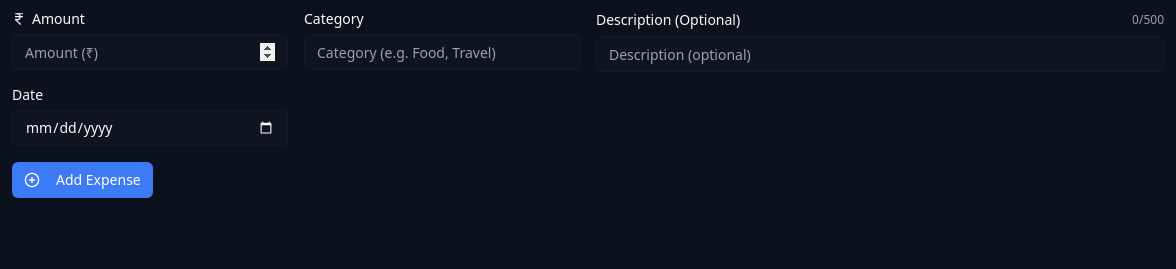
ExpenseForm › shows validation errors for empty required fields
Click the button "Add Expense" at (82, 180), box [12,162,153,198]
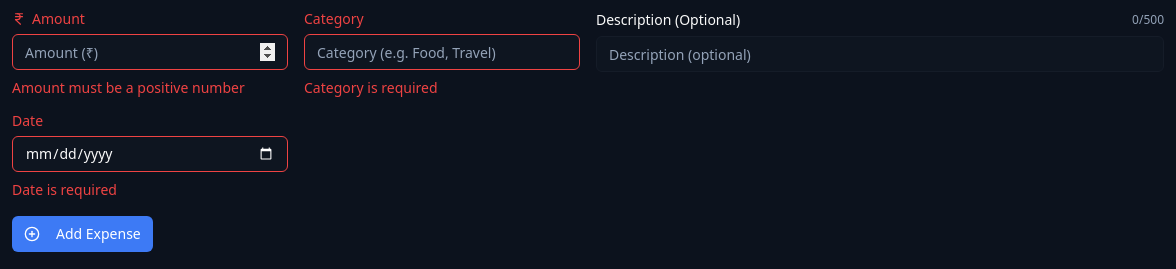
Expected: the text "Amount must be a positive number" is shown, [12,78,245,97]
Expected: the text "Category is required" is shown, [304,78,438,97]
Expected: the text "Date is required" is shown, [12,180,117,199]
